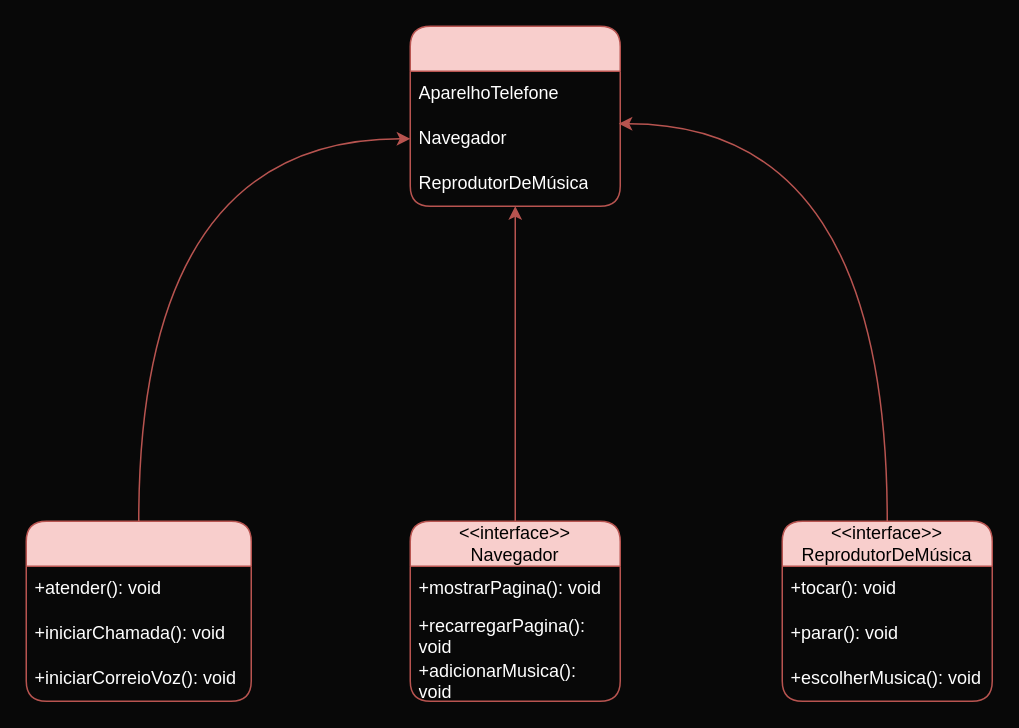
Image size: 1019x728. Some labels were removed from this diagram. Here are the shapes that lost their labels. From the top down, the box of each, then its label:
(409, 25, 620, 206): <<Class>> AparelhoIphone
(25, 520, 251, 701): <<interface>> AparelhoTelefone
